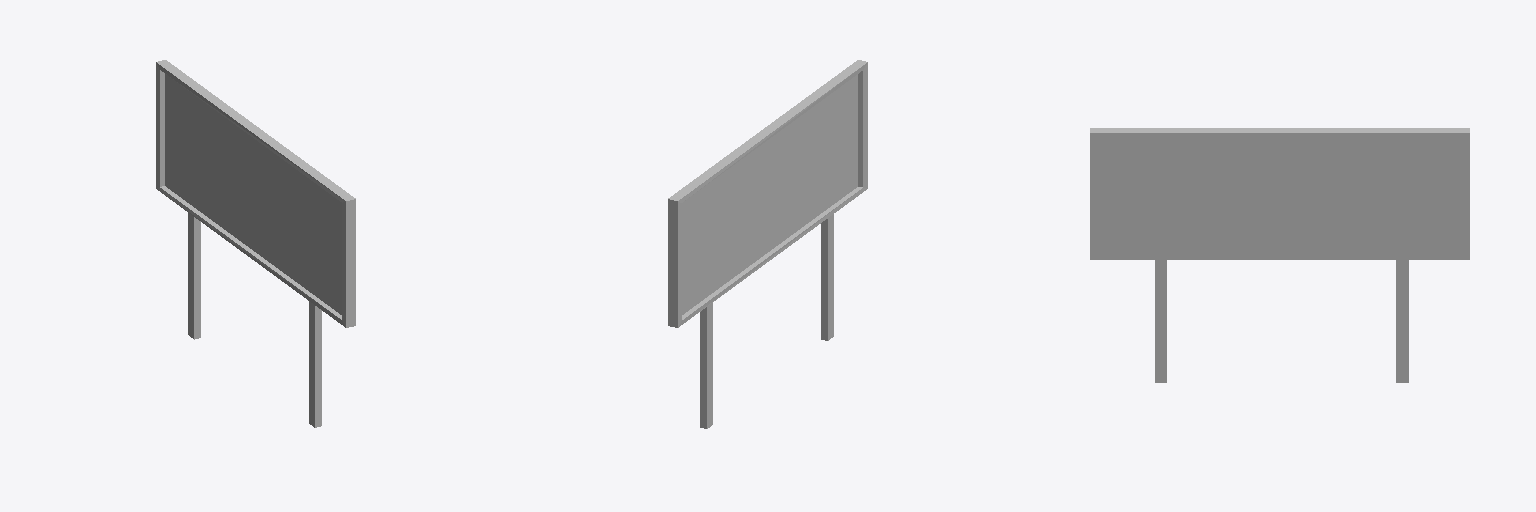
The model's file is tabellone.obj.
3 renders of one model, left to right at view 1: azimuth 30°, elevation 25°; view 2: azimuth 150°, elevation 25°; view 3: azimuth 270°, elevation 25°, orthographic.
Parts seen in each view (by area): view 1: Board_16_9.001, Frame_16_9.001; view 2: Board_16_9.001, Frame_16_9.001; view 3: Frame_16_9.001.
Boxes of the visible parts, x1=… form: Board_16_9.001: x1=165, y1=74, x2=341, y2=314; Frame_16_9.001: x1=156, y1=60, x2=355, y2=427; Board_16_9.001: x1=682, y1=74, x2=857, y2=314; Frame_16_9.001: x1=668, y1=60, x2=867, y2=428; Frame_16_9.001: x1=1090, y1=128, x2=1469, y2=382.
Bounding box in the file's own units: 0.3615 × 8.6 × 11.83.